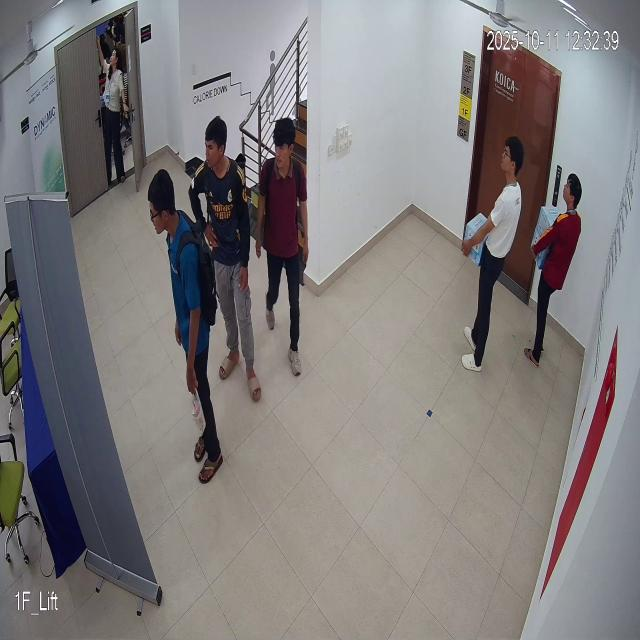face: (142, 166, 176, 241), (200, 114, 230, 176), (271, 111, 295, 181), (500, 134, 525, 180)
